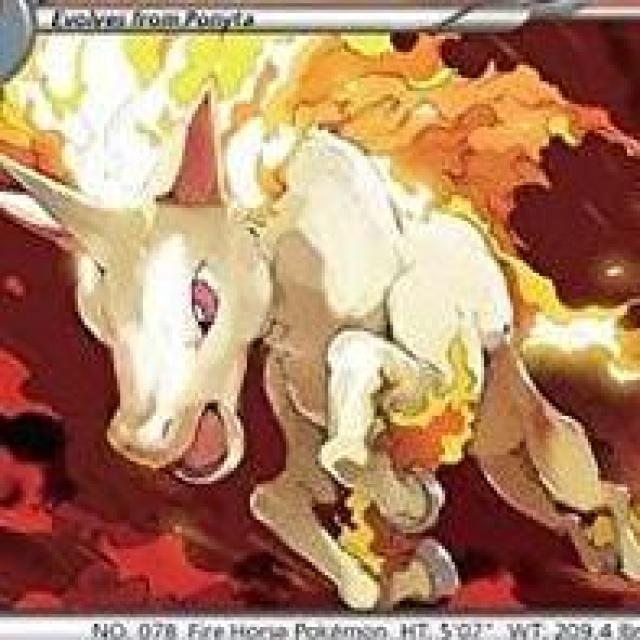Rapidash: (61, 55, 608, 500)
